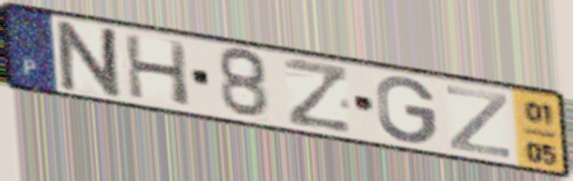8: (215, 46, 272, 122)
G: (374, 75, 439, 146)
H: (121, 31, 194, 109)
N: (55, 18, 127, 102)
Z: (281, 54, 355, 136), (444, 83, 513, 161)
